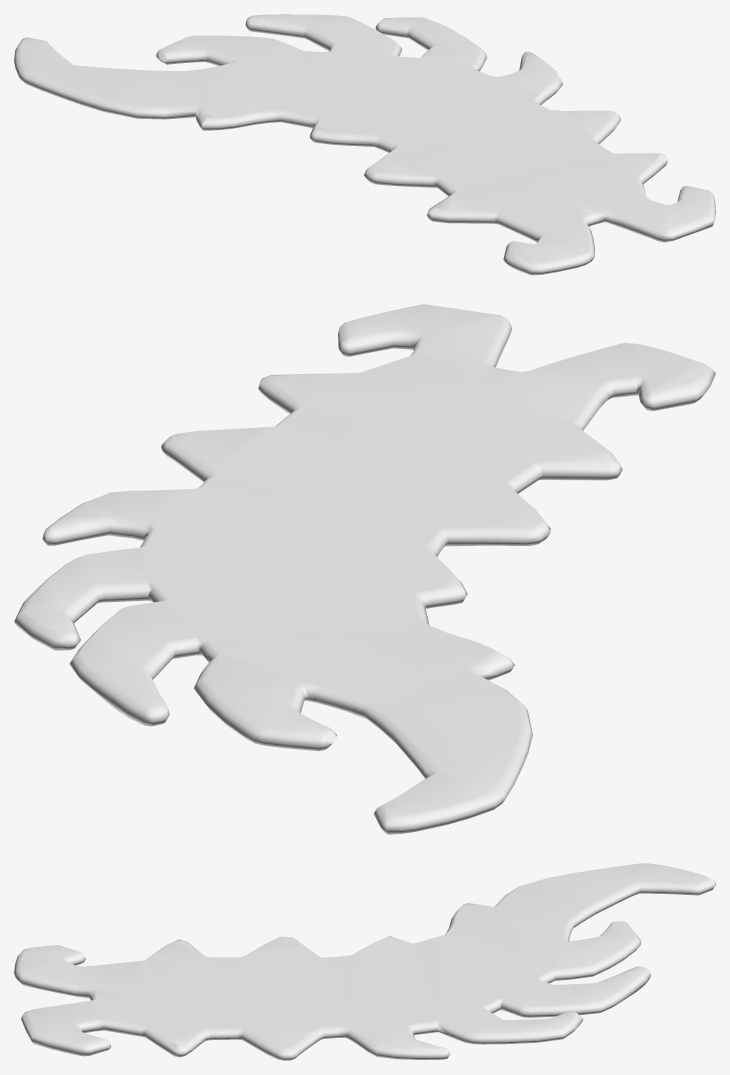
Rendered from Prop_KrillCarpet.glb.
3 views of the same model, one above another, from view 1: azimuth 30°, elevation 25°; view 2: azimuth 150°, elevation 25°; view 3: azimuth 270°, elevation 25° (orthographic). The views are drawn at different scales.
Parts seen in each view (by area): view 1: Prop_KrillCarpet; view 2: Prop_KrillCarpet; view 3: Prop_KrillCarpet.
Boxes of the visible parts, box(x1,y1,x2,y2) form: Prop_KrillCarpet: box(14, 14, 715, 275); Prop_KrillCarpet: box(14, 304, 715, 834); Prop_KrillCarpet: box(14, 863, 715, 1060).
Bounding box in the file's own units: 2.29 × 0.0661 × 3.55.
Materials: 1 (1 with a texture image).
